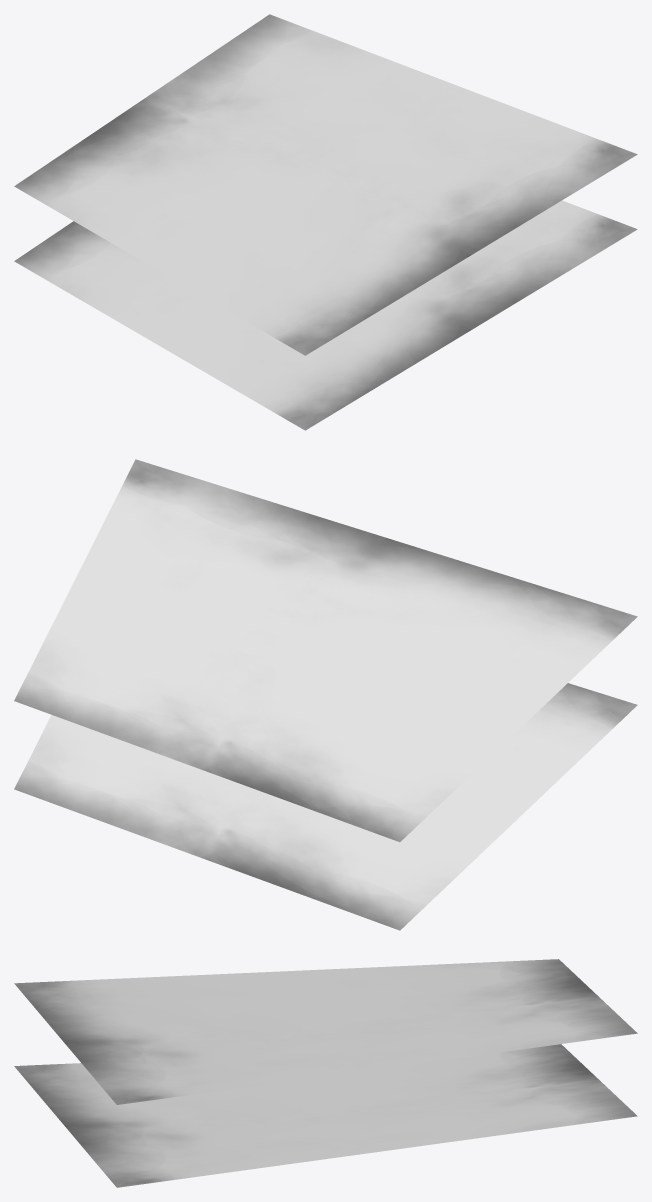
Rendered from CourseWinter_CurveFloor_8_7.fbx.
3 renders of one model, top to bottom at view 1: azimuth 30°, elevation 25°; view 2: azimuth 150°, elevation 25°; view 3: azimuth 270°, elevation 25°, orthographic. The views are drawn at different scales.
Parts seen in each view (by area): view 1: polySurface717; view 2: polySurface717; view 3: polySurface717.
Part boxes in pixels (box(x1,y1,x2,y2)): polySurface717: box(14, 14, 637, 430); polySurface717: box(14, 459, 637, 930); polySurface717: box(14, 959, 637, 1187).
Size of the model in its own units: 5.93 by 2 by 6.83.
1 material, 1 textured.
